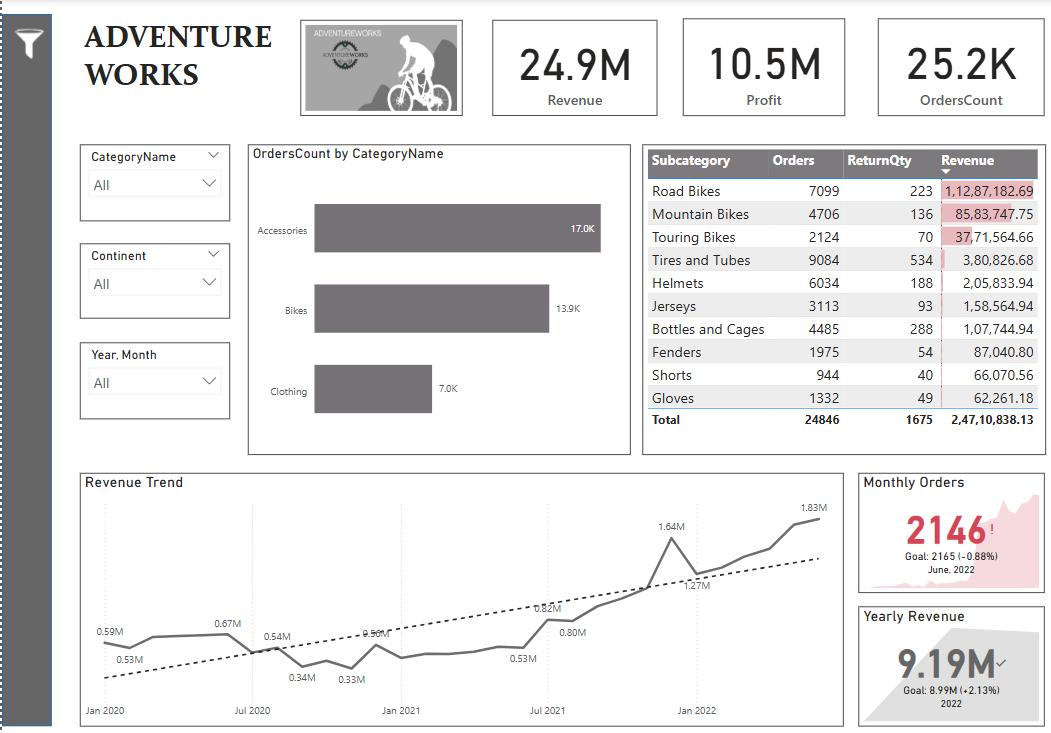

What the dashboard file says about the page in this screenshot:
{"tool":"powerbi","page":{"name":"Dashboard","canvas":[1280,900],"ordinal":0},"visuals":[{"type":"card","fields":{"Values":["Measure Table.Profit"]},"box":[829.4,23.7,197.3,118.7],"z":0},{"type":"tableEx","fields":{"Values":["Product Subcategories Lookup.SubcategoryName","Measure Table.OrdersCount","Sum(Returns Data.ReturnQuantity)","Measure Table.Total Revenue"]},"box":[780.1,177.2,491.4,378.2],"z":1000},{"type":"card","fields":{"Values":["Measure Table.Total Revenue"]},"box":[597.4,25.6,201,116.9],"z":2000},{"type":"slicer","fields":{"Values":["Territory Lookup.Continent"]},"box":[95,297.8,182.7,91.3],"z":3000},{"type":"slicer","fields":{"Values":["Product Categories Lookup.CategoryName"]},"box":[95,177.2,182.7,93.2],"z":4000},{"type":"slicer","fields":{"Values":["Calendar Lookup.Date.Variation.Date Hierarchy.Year","Calendar Lookup.Date.Variation.Date Hierarchy.Month"]},"box":[95,418.3,182.7,93.2],"z":5000},{"type":"barChart","fields":{"Category":["Product Categories Lookup.CategoryName"],"Y":["Measure Table.OrdersCount"]},"box":[299.6,177.2,465.8,378.2],"z":6000},{"type":"lineChart","title":"Revenue Trend","fields":{"Category":["Calendar Lookup.Date.Variation.Date Hierarchy.Year","Calendar Lookup.Date.Variation.Date Hierarchy.Month"],"Y":["Measure Table.Total Revenue"]},"box":[95,577.3,929.9,308.7],"z":7000},{"type":"card","fields":{"Values":["Measure Table.OrdersCount"]},"box":[1066.9,23.7,202.8,118.7],"z":8000},{"type":"kpi","title":"Monthly Orders","fields":{"Indicator":["Measure Table.OrdersCount"],"TrendLine":["Calendar Lookup.MonthYear"],"Goal":["Measure Table.Previousmonthorders"]},"box":[1043.1,577.3,226.5,146.1],"z":9000},{"type":"kpi","title":"Yearly Revenue","fields":{"Indicator":["Measure Table.Total Revenue"],"TrendLine":["Calendar Lookup.Years"],"Goal":["Measure Table.PreviousYearRevenue"]},"box":[1043.1,739.9,226.5,146.1],"z":10000},{"type":"textbox","box":[94.5,18.9,266.5,115.3],"z":11000},{"type":"shape","box":[0,18.9,60.5,867.4],"z":12000},{"type":"image","box":[363.5,25.6,197.3,116.9],"z":13000},{"type":"actionButton","box":[0,23.7,74.9,65.8],"z":13001}]}

Visuals, with their boxes in screenshot pixels (x1, y1, x2, y2), scaled from the page's 1280x900 canvas onto the 1051x733 screenshot:
card - Measure Table.Profit: bbox=[681, 19, 843, 116]
tableEx - Product Subcategories Lookup.SubcategoryName x Measure Table.OrdersCount: bbox=[641, 144, 1044, 452]
card - Measure Table.Total Revenue: bbox=[491, 21, 656, 116]
slicer - Territory Lookup.Continent: bbox=[78, 243, 228, 317]
slicer - Product Categories Lookup.CategoryName: bbox=[78, 144, 228, 220]
slicer - Calendar Lookup.Date.Variation.Date Hierarchy.Year x Calendar Lookup.Date.Variation.Date Hierarchy.Month: bbox=[78, 341, 228, 417]
barChart - Product Categories Lookup.CategoryName x Measure Table.OrdersCount: bbox=[246, 144, 628, 452]
"Revenue Trend" lineChart: bbox=[78, 470, 842, 722]
card - Measure Table.OrdersCount: bbox=[876, 19, 1043, 116]
"Monthly Orders" kpi: bbox=[856, 470, 1042, 589]
"Yearly Revenue" kpi: bbox=[856, 603, 1042, 722]
textbox: bbox=[78, 15, 296, 109]
shape: bbox=[0, 15, 50, 722]
image: bbox=[298, 21, 460, 116]
actionButton: bbox=[0, 19, 61, 73]
